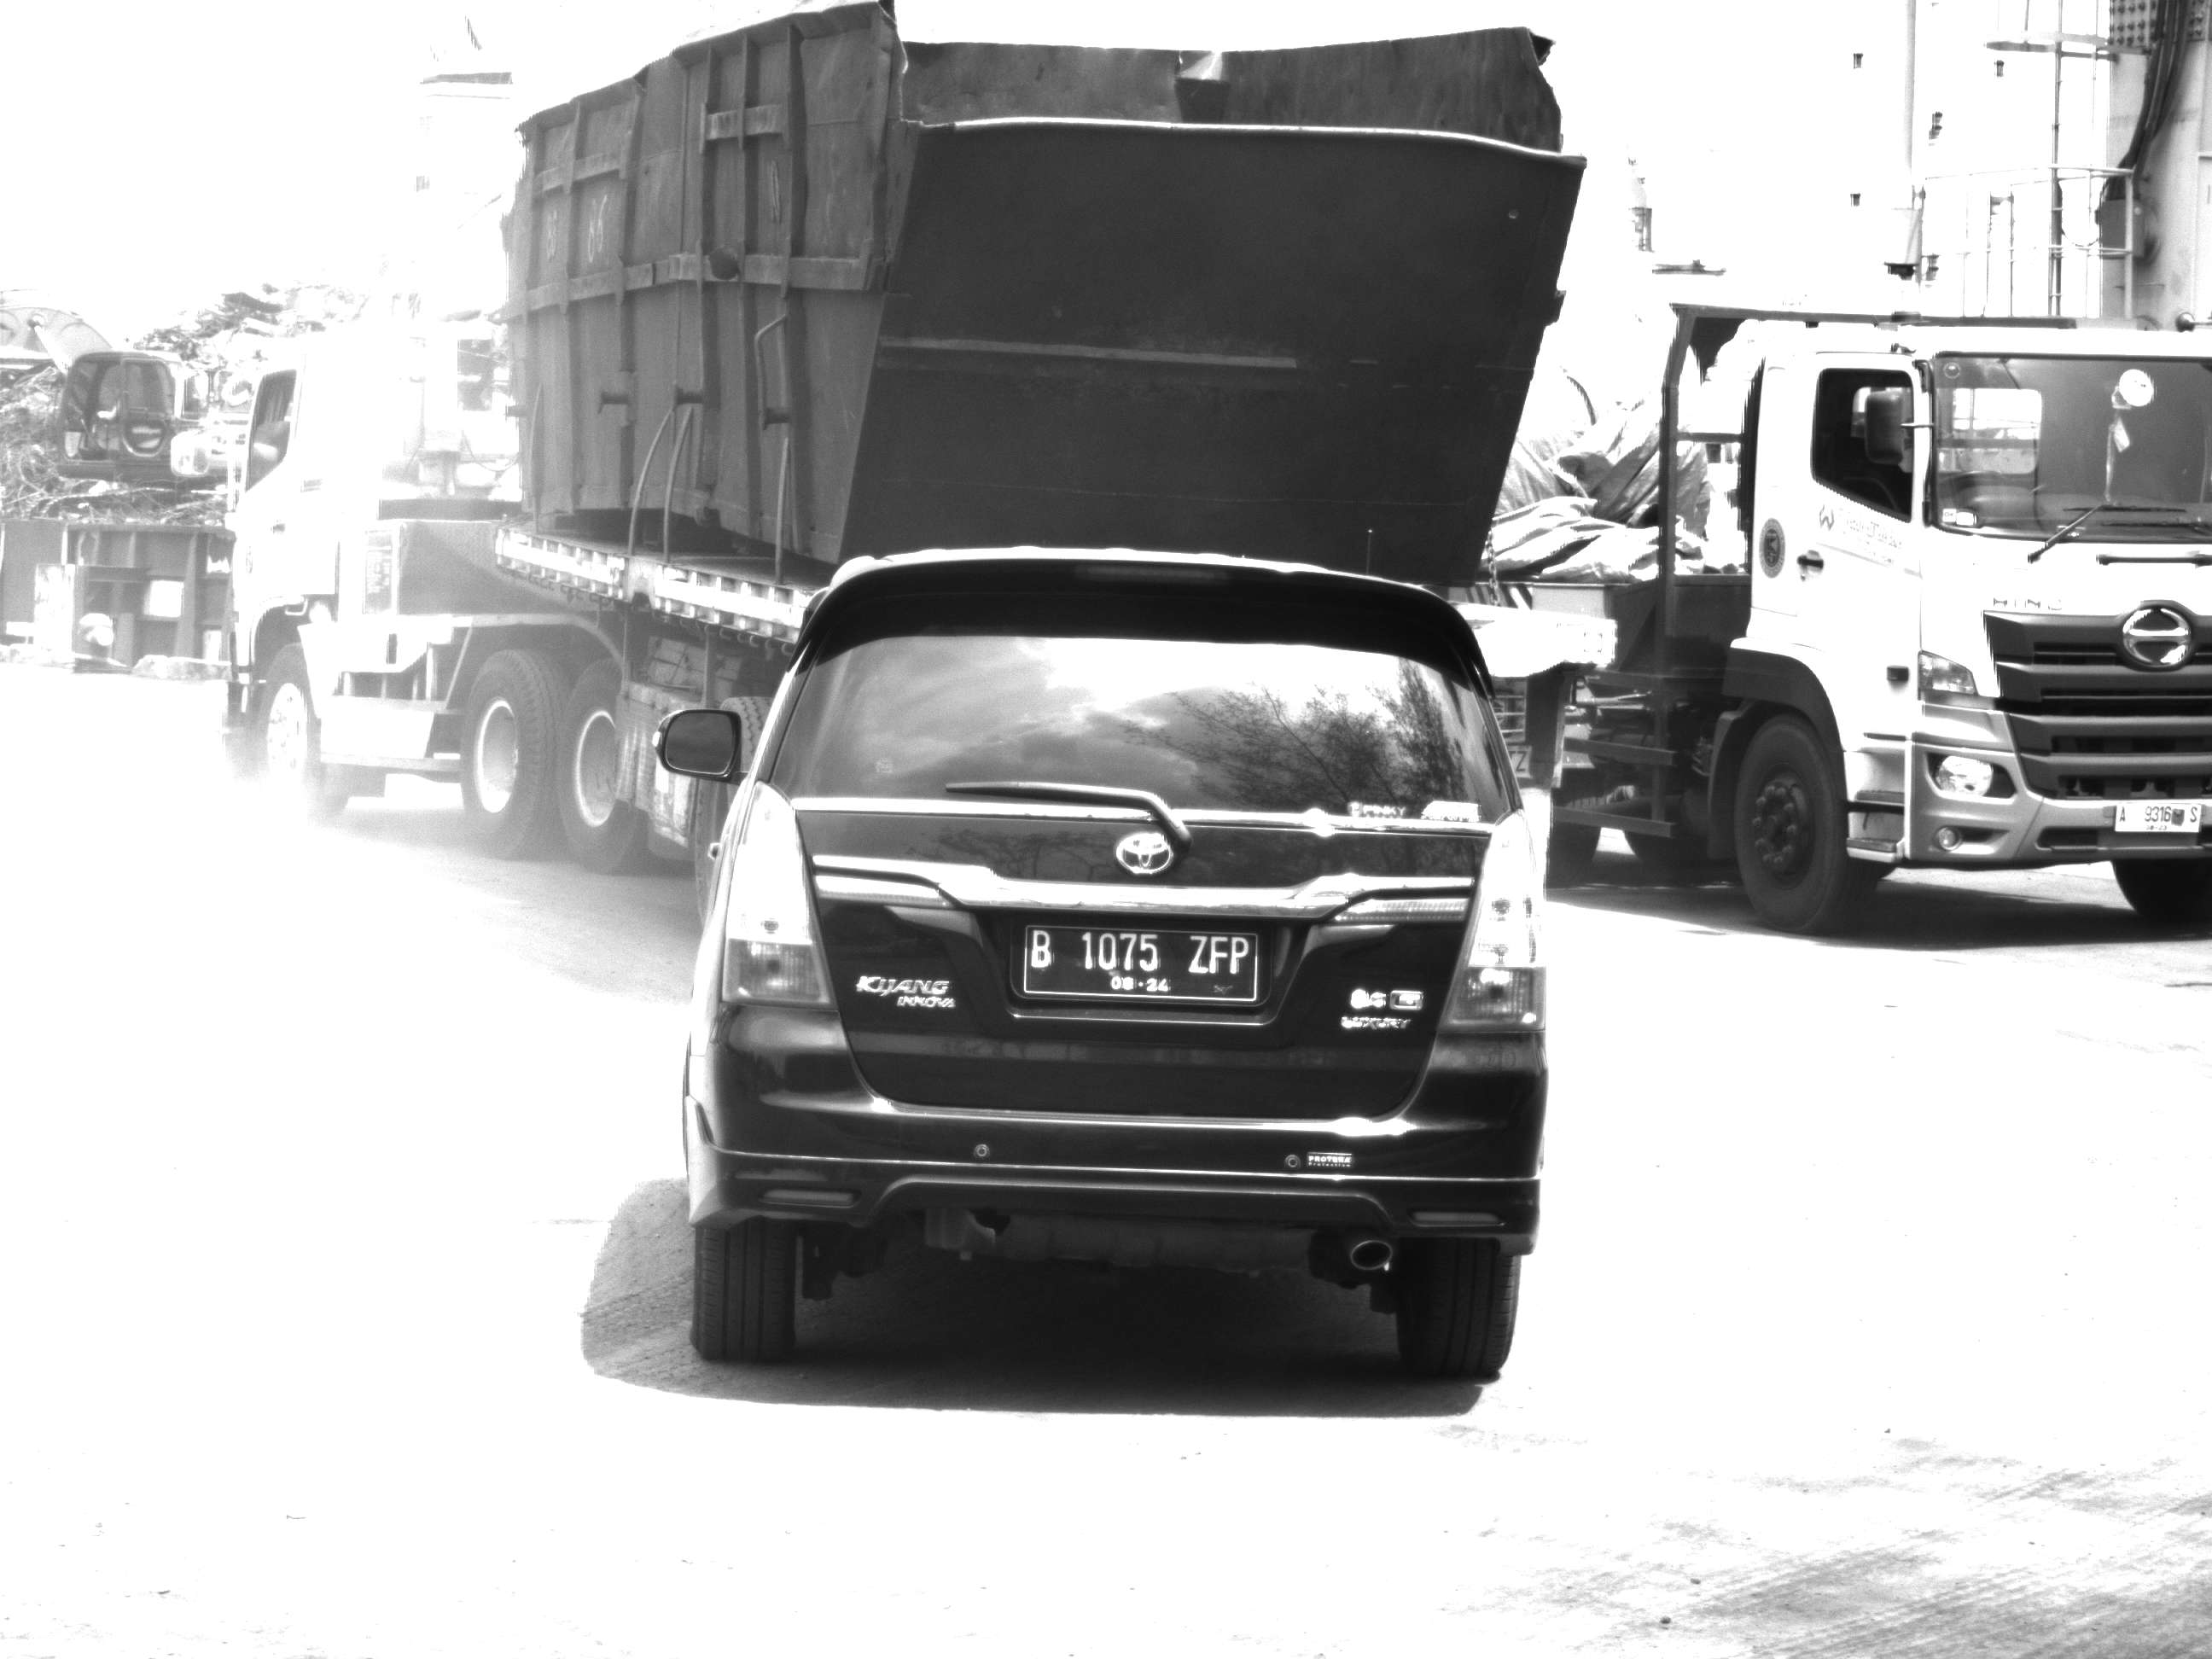car: (662, 542, 1561, 1410)
truck_frontside: (1658, 260, 2205, 934)
truck_side: (202, 2, 683, 899)
